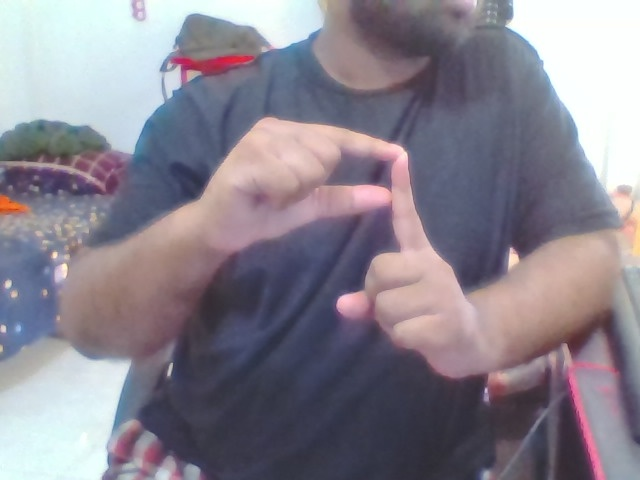P: (209, 101, 503, 380)
